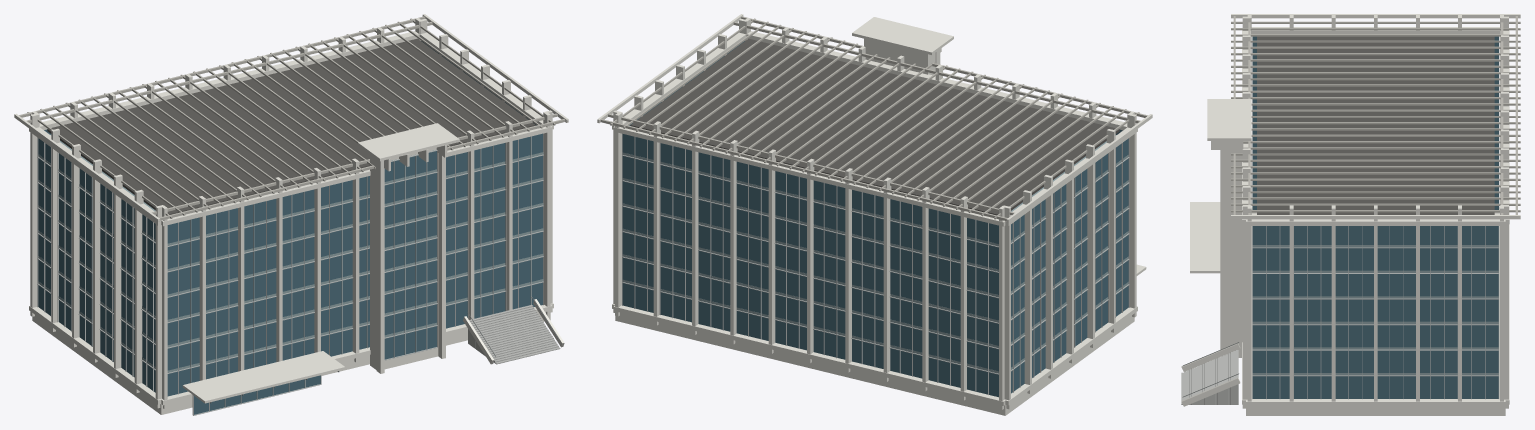
3 renders of one model, left to right at view 1: azimuth 30°, elevation 25°; view 2: azimuth 150°, elevation 25°; view 3: azimuth 270°, elevation 25°, orthographic.
Parts seen in each view (by area): view 1: front-glass__blueglass, roof__roof, roof-trellis__pale, west-glass__blueglass, front-stone-fins__white, west-stone-fins__white, tower-glass__blueglass, front-glass__frame, west-glass__frame, front-glass__spandrel, tower-side-columns__white, low-canopy__white (+16 smaller); view 2: rear-glass__blueglass, roof__roof, roof-trellis__pale, rear-stone-fins__white, west-glass__blueglass, west-stone-fins__white, rear-glass__frame, rear-glass__spandrel, rear-stone-bands__white, west-glass__frame, base__white, front-stone-bands__white (+8 smaller); view 3: east-glass__blueglass, roof__roof, roof-trellis__pale, east-stone-fins__white, east-glass__frame, east-glass__spandrel, east-stone-bands__white, base__white, tower-sides__white, roof-edge__white, low-canopy__white, external-stair__concrete (+10 smaller).
Boxes of the visible parts, box(x1,y1,x2,y2) form: front-glass__blueglass: box(167, 133, 542, 396); roof__roof: box(47, 38, 535, 214); roof-trellis__pale: box(19, 16, 568, 221); west-glass__blueglass: box(38, 138, 155, 392); front-stone-fins__white: box(161, 112, 550, 409); west-stone-fins__white: box(30, 114, 162, 408); tower-glass__blueglass: box(384, 150, 436, 359); front-glass__frame: box(167, 133, 543, 394); west-glass__frame: box(37, 137, 155, 391); front-glass__spandrel: box(167, 152, 543, 372); tower-side-columns__white: box(376, 153, 445, 373); low-canopy__white: box(182, 351, 345, 403); rear-glass__blueglass: box(622, 134, 998, 397); roof__roof: box(630, 38, 1119, 215); roof-trellis__pale: box(600, 16, 1147, 220); rear-stone-fins__white: box(615, 112, 1005, 409); west-glass__blueglass: box(1011, 138, 1128, 393); west-stone-fins__white: box(1004, 114, 1136, 409); rear-glass__frame: box(622, 133, 998, 394); rear-glass__spandrel: box(622, 152, 998, 373); rear-stone-bands__white: box(613, 126, 1005, 405); west-glass__frame: box(1011, 138, 1129, 392); base__white: box(615, 312, 1134, 415); front-stone-bands__white: box(746, 31, 1127, 130); east-glass__blueglass: box(1252, 226, 1498, 398); roof__roof: box(1257, 36, 1494, 214); roof-trellis__pale: box(1231, 16, 1520, 214); east-stone-fins__white: box(1247, 205, 1503, 410); east-glass__frame: box(1252, 226, 1499, 399); east-glass__spandrel: box(1252, 245, 1498, 375); east-stone-bands__white: box(1246, 219, 1505, 406); base__white: box(1246, 213, 1505, 415); tower-sides__white: box(1228, 141, 1243, 357); roof-edge__white: box(1231, 14, 1520, 219); low-canopy__white: box(1190, 202, 1220, 273); external-stair__concrete: box(1181, 350, 1238, 404).
Size of the model in its own units: 64.35 by 33.2 by 45.68.
